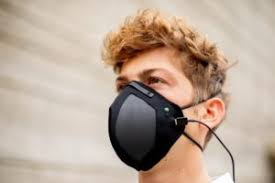with-mask: (95, 5, 230, 177)
